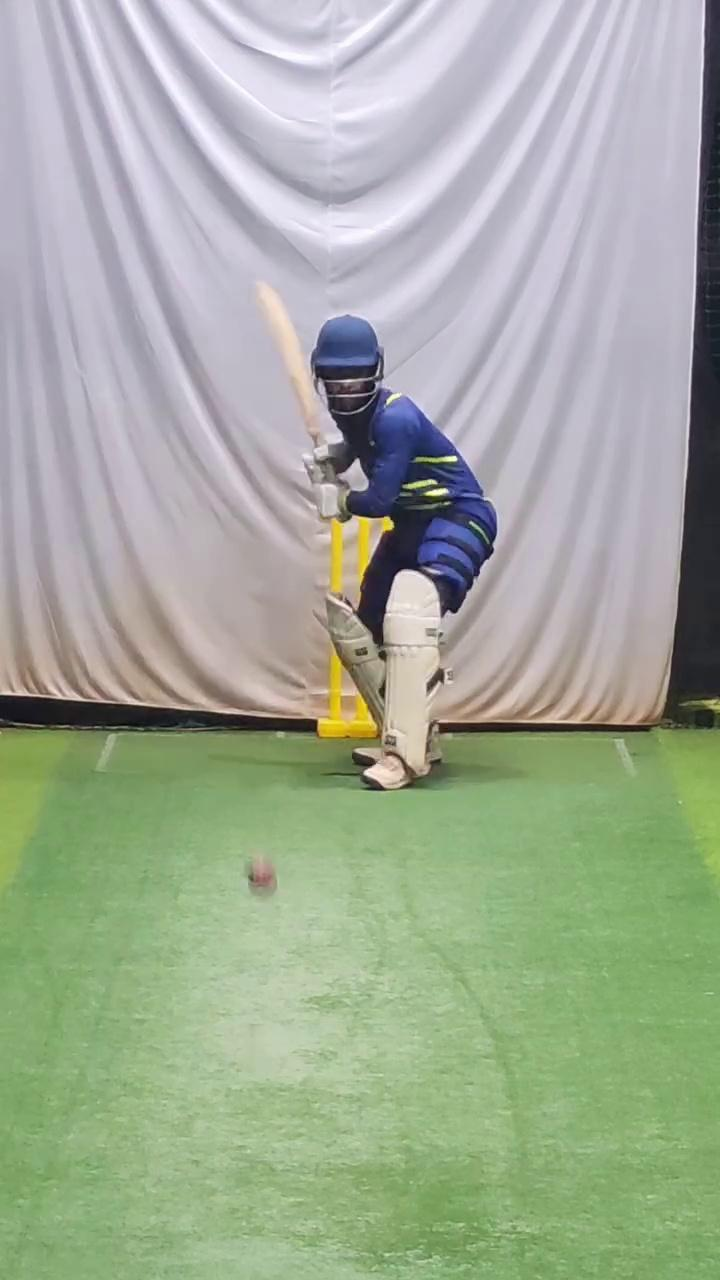bat: (251, 271, 323, 440)
